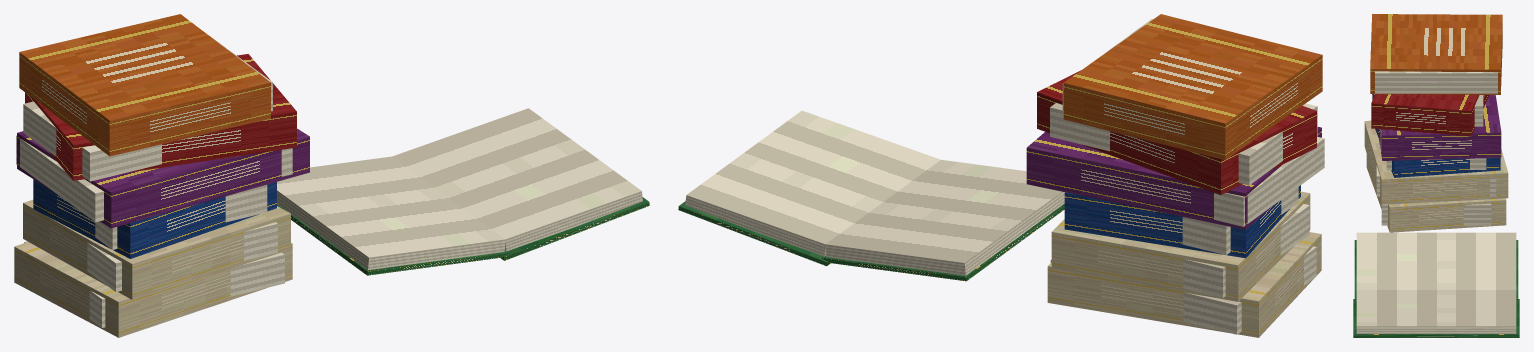
File: BookPile_Normal.fbx
3 renders of one model, left to right at view 1: azimuth 30°, elevation 25°; view 2: azimuth 150°, elevation 25°; view 3: azimuth 270°, elevation 25°, orthographic. The views are drawn at different scales.
Visible parts, largest first — view 1: BookPile.001; view 2: BookPile.001; view 3: BookPile.001.
Part boxes in pixels (x1,y1,x2,y2): BookPile.001: (14,14,649,337); BookPile.001: (678,14,1324,337); BookPile.001: (1353,14,1519,337).
Size of the model in its own units: 55.33 by 21.76 by 20.9.
